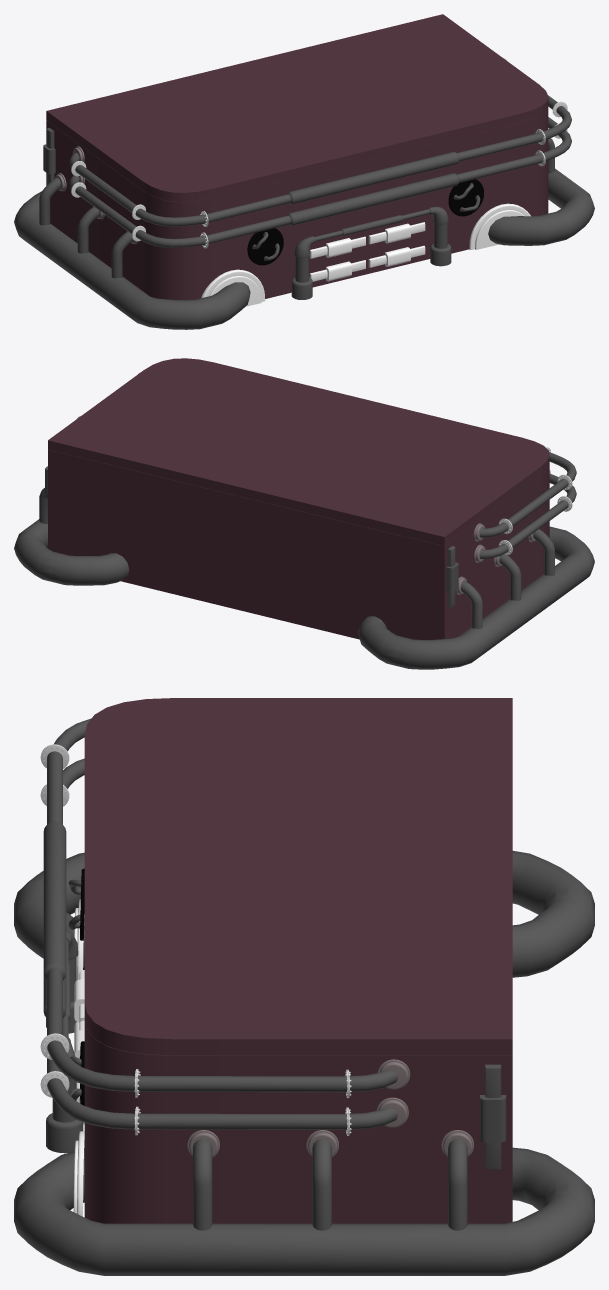
File: Chest.fbx
3 views of the same model, one above another, from view 1: azimuth 30°, elevation 25°; view 2: azimuth 150°, elevation 25°; view 3: azimuth 270°, elevation 25° (orthographic). The views are drawn at different scales.
Visible parts, largest first — view 1: Box001.001, Line258, Line253, Cylinder570, Line263, Box589, Gengon491, Box584.001; view 2: Box001.001, Line253, Line258, Box584.001, Cylinder574, Gengon491; view 3: Box001.001, Line253, Line258, Line263, Cylinder574, Box585.001, Gengon491, Cylinder570, Box589.
Part boxes in pixels (left/top/right/bottom): Box001.001: left=46, top=14, right=548, bottom=300; Line258: left=39, top=95, right=571, bottom=278; Line253: left=14, top=168, right=594, bottom=329; Cylinder570: left=201, top=179, right=530, bottom=306; Line263: left=252, top=183, right=480, bottom=299; Box589: left=309, top=222, right=425, bottom=281; Gengon491: left=71, top=58, right=567, bottom=248; Box584.001: left=43, top=128, right=55, bottom=184; Box001.001: left=48, top=358, right=549, bottom=639; Line253: left=14, top=519, right=594, bottom=669; Line258: left=39, top=452, right=576, bottom=628; Box584.001: left=446, top=546, right=458, bottom=607; Cylinder574: left=455, top=523, right=535, bottom=594; Gengon491: left=77, top=373, right=572, bottom=555; Box001.001: left=84, top=698, right=512, bottom=1223; Line253: left=14, top=851, right=594, bottom=1275; Line258: left=43, top=718, right=467, bottom=1230; Line263: left=46, top=879, right=84, bottom=1153; Cylinder574: left=187, top=1059, right=474, bottom=1157; Box585.001: left=480, top=1064, right=506, bottom=1169; Gengon491: left=40, top=744, right=351, bottom=1135; Cylinder570: left=73, top=868, right=84, bottom=1216; Box589: left=74, top=970, right=84, bottom=1124.
Size of the model in its own units: 421 by 108 by 261.
